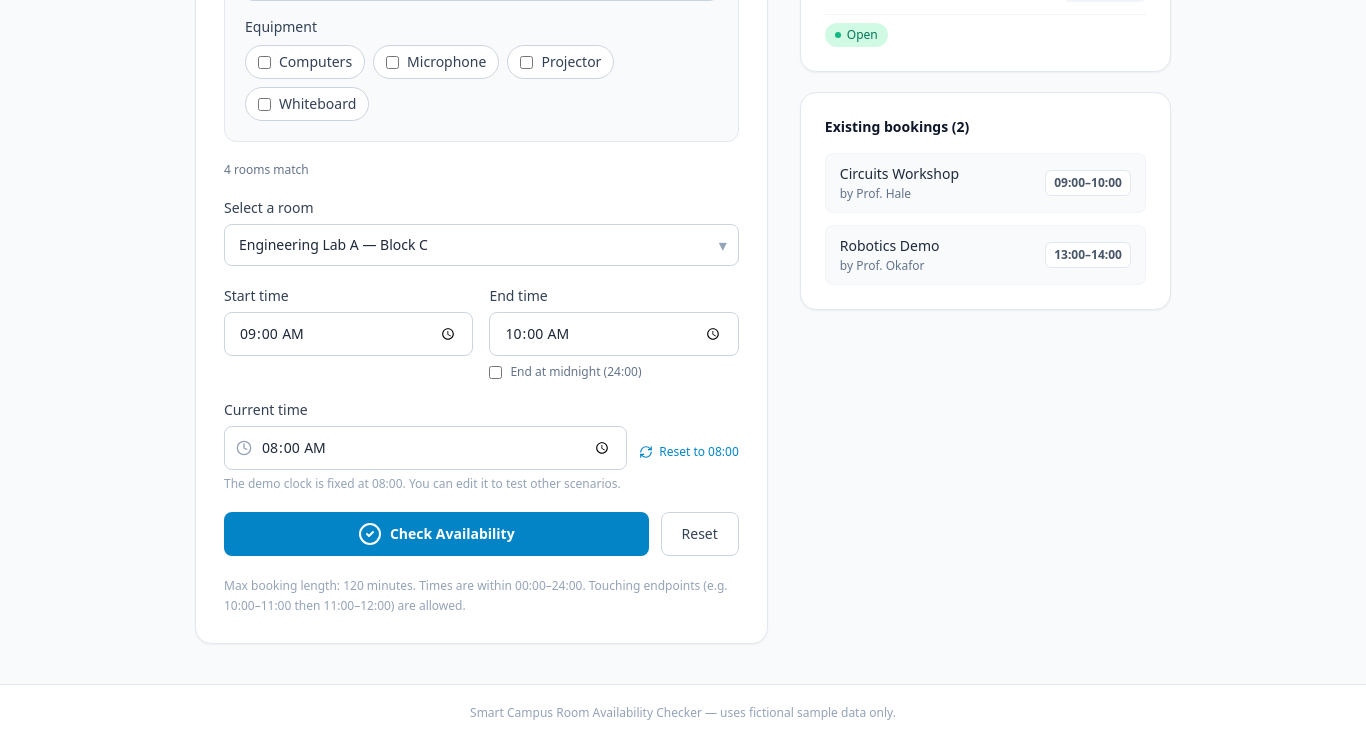
App integration (UI behavior) › UI1: default room 09:00-10:00 is Unavailable because of an overlap
(page scrolled)
Click the button "Check Availability".
click(436, 534)  # box [224,512,648,556]
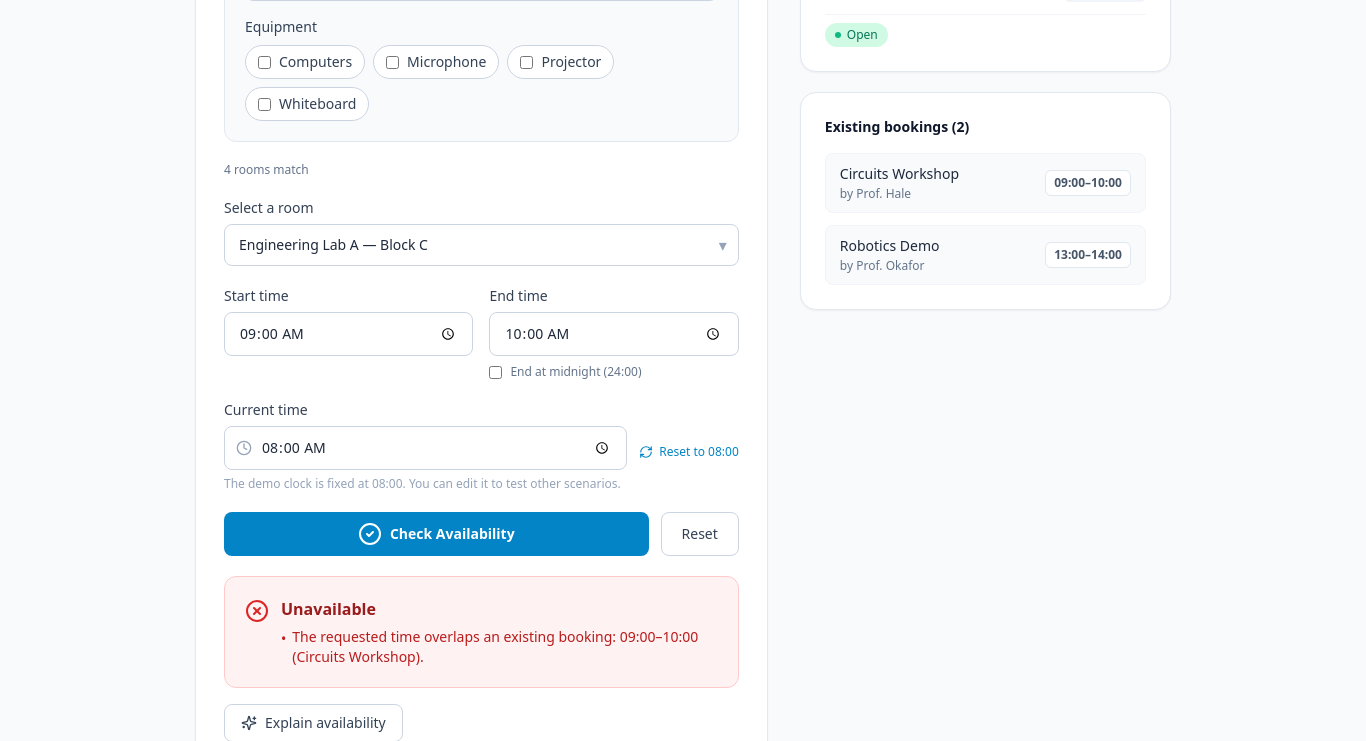
Now the text "Unavailable" is shown, box [281,598,376,620]
Now the text "overlaps an existing booking" is shown, box [292,627,698,666]
